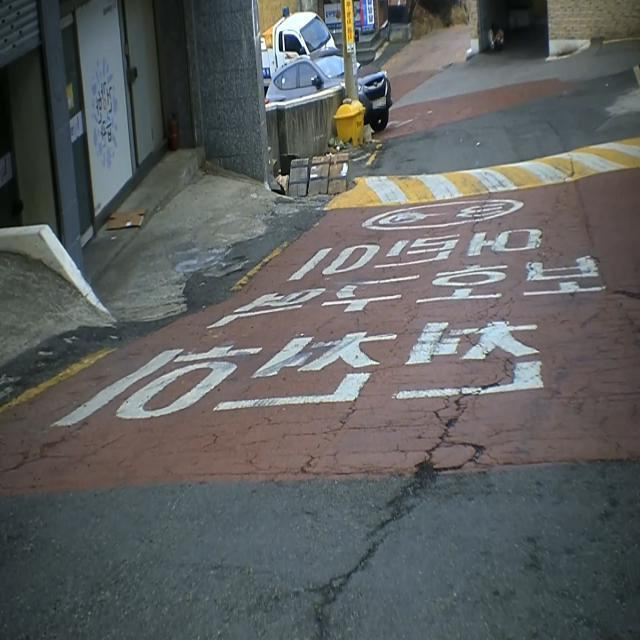pothole: (308, 377, 486, 640)
